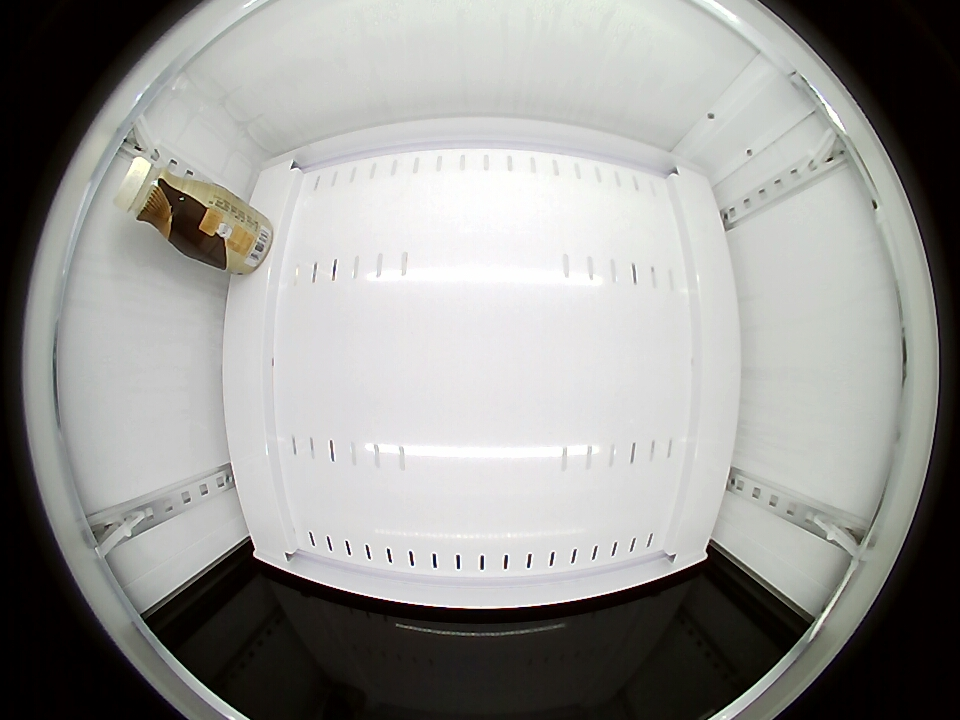kafei: (115, 156, 206, 246)
